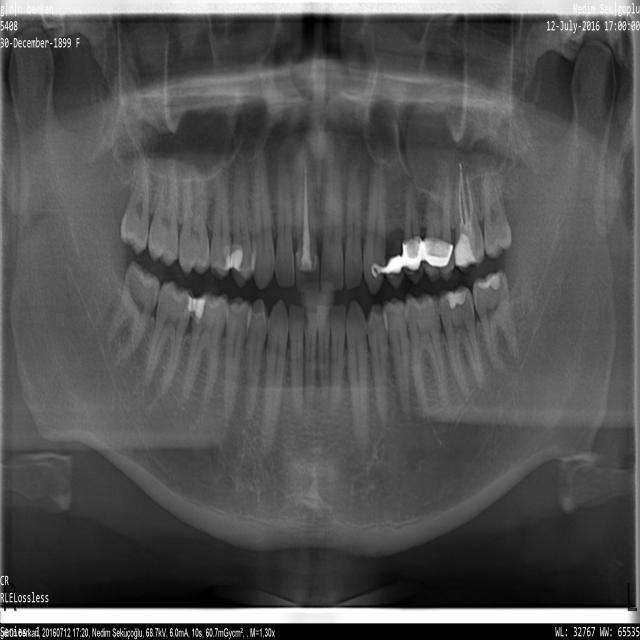Canine: (363, 138, 386, 294), (265, 300, 288, 447), (252, 139, 274, 289), (346, 301, 368, 447)
Incisores: (295, 160, 320, 293), (321, 158, 343, 293), (275, 157, 294, 288), (345, 160, 362, 289), (289, 305, 304, 420), (331, 304, 346, 408), (304, 311, 317, 409), (317, 305, 330, 400)
Premolars: (224, 297, 251, 428), (383, 298, 411, 424), (231, 157, 253, 287), (246, 299, 269, 423), (366, 304, 388, 428), (210, 170, 232, 279), (402, 178, 423, 284), (385, 237, 404, 288)
molars: (181, 291, 229, 412), (144, 281, 194, 396), (108, 261, 160, 365), (405, 293, 448, 416), (439, 287, 485, 398), (473, 269, 519, 375), (178, 169, 211, 276), (454, 161, 484, 272), (423, 175, 454, 281), (148, 168, 179, 266), (120, 161, 150, 255), (484, 172, 512, 258)
